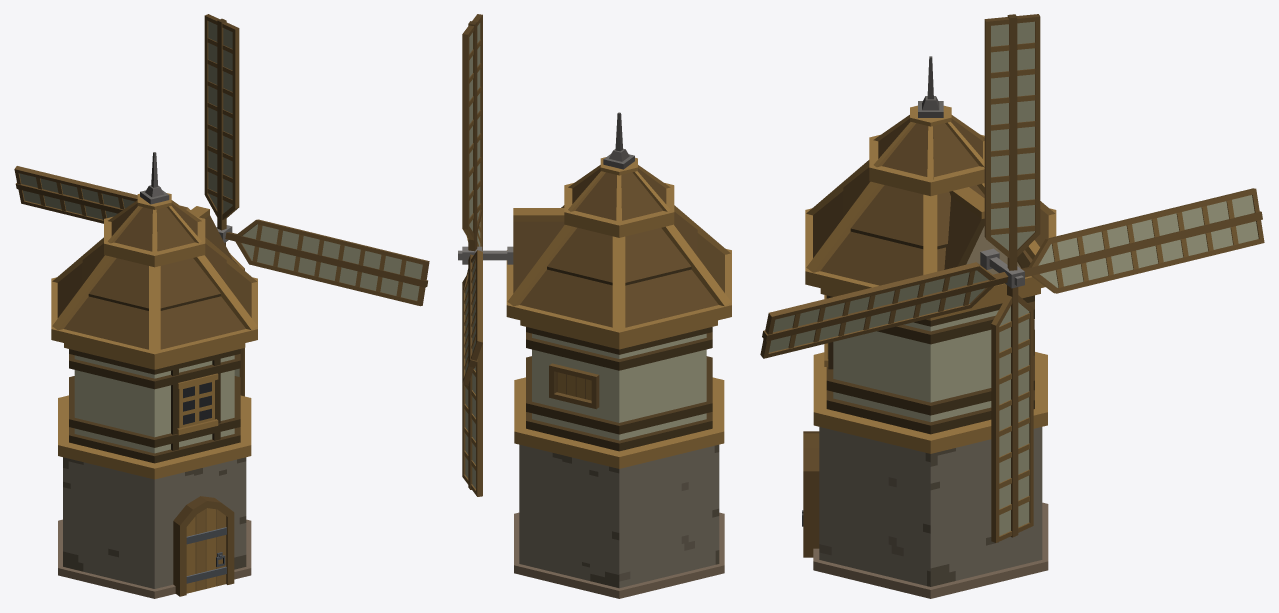
The model's file is SF_Bld_House_Windmill_01.fbx.
3 views of the same model, side by side, from view 1: azimuth 30°, elevation 25°; view 2: azimuth 150°, elevation 25°; view 3: azimuth 270°, elevation 25° (orthographic). The views are drawn at different scales.
Visible parts, largest first — view 1: SF_Bld_House_Windmill_01, SF_Bld_HouseAdd_WindmillBlade_01; view 2: SF_Bld_House_Windmill_01, SF_Bld_HouseAdd_WindmillBlade_01; view 3: SF_Bld_House_Windmill_01, SF_Bld_HouseAdd_WindmillBlade_01.
Part boxes in pixels (bbox=[...]): SF_Bld_House_Windmill_01: bbox=[51, 152, 257, 598]; SF_Bld_HouseAdd_WindmillBlade_01: bbox=[14, 14, 429, 396]; SF_Bld_House_Windmill_01: bbox=[506, 112, 731, 598]; SF_Bld_HouseAdd_WindmillBlade_01: bbox=[458, 14, 513, 496]; SF_Bld_House_Windmill_01: bbox=[802, 56, 1056, 598]; SF_Bld_HouseAdd_WindmillBlade_01: bbox=[760, 14, 1264, 542].
Size of the model in its own units: 15.22 by 22.41 by 17.5.
